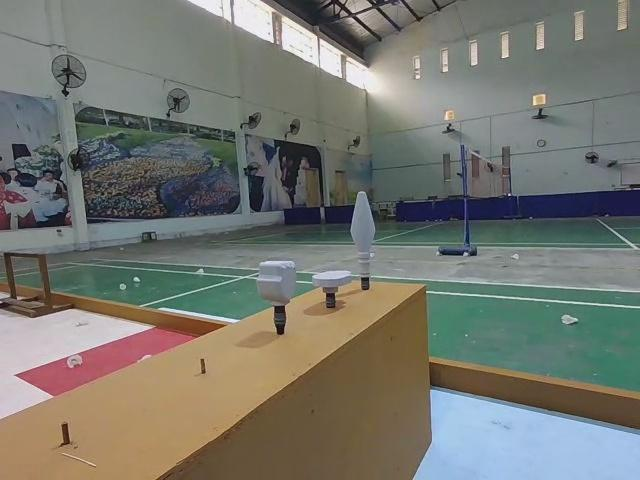Fist: (255, 256, 300, 334)
Hand: (312, 265, 354, 306)
Sph: (349, 190, 378, 292)
